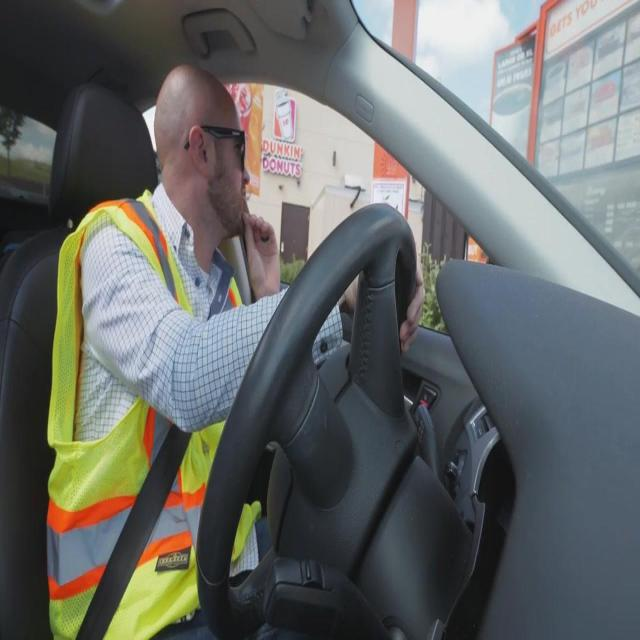Vest: (45, 185, 261, 639)
